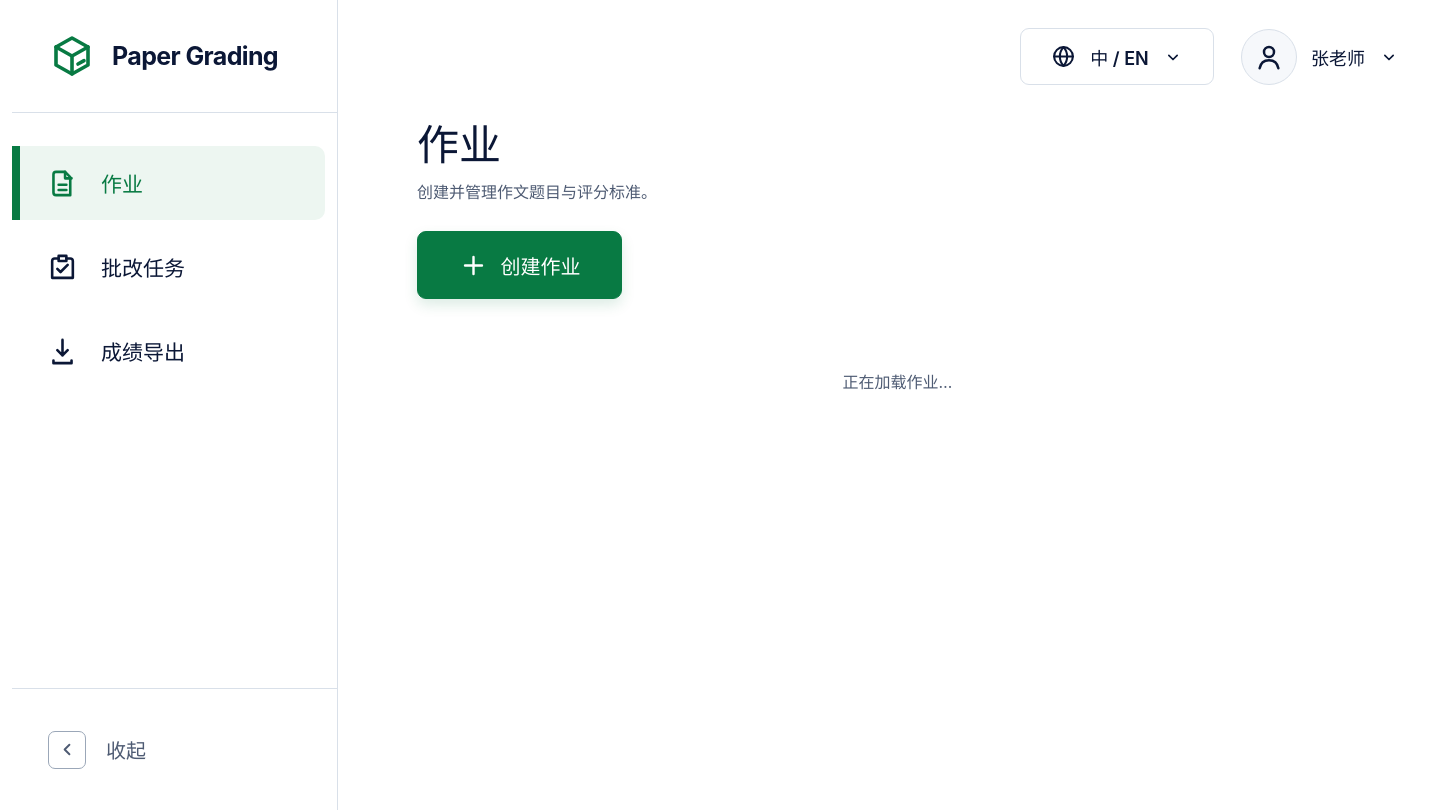
App › 可以切换英文界面
Click the button with aria-label "Switch to English". click: (1117, 56)
box: [1020,28,1214,85]
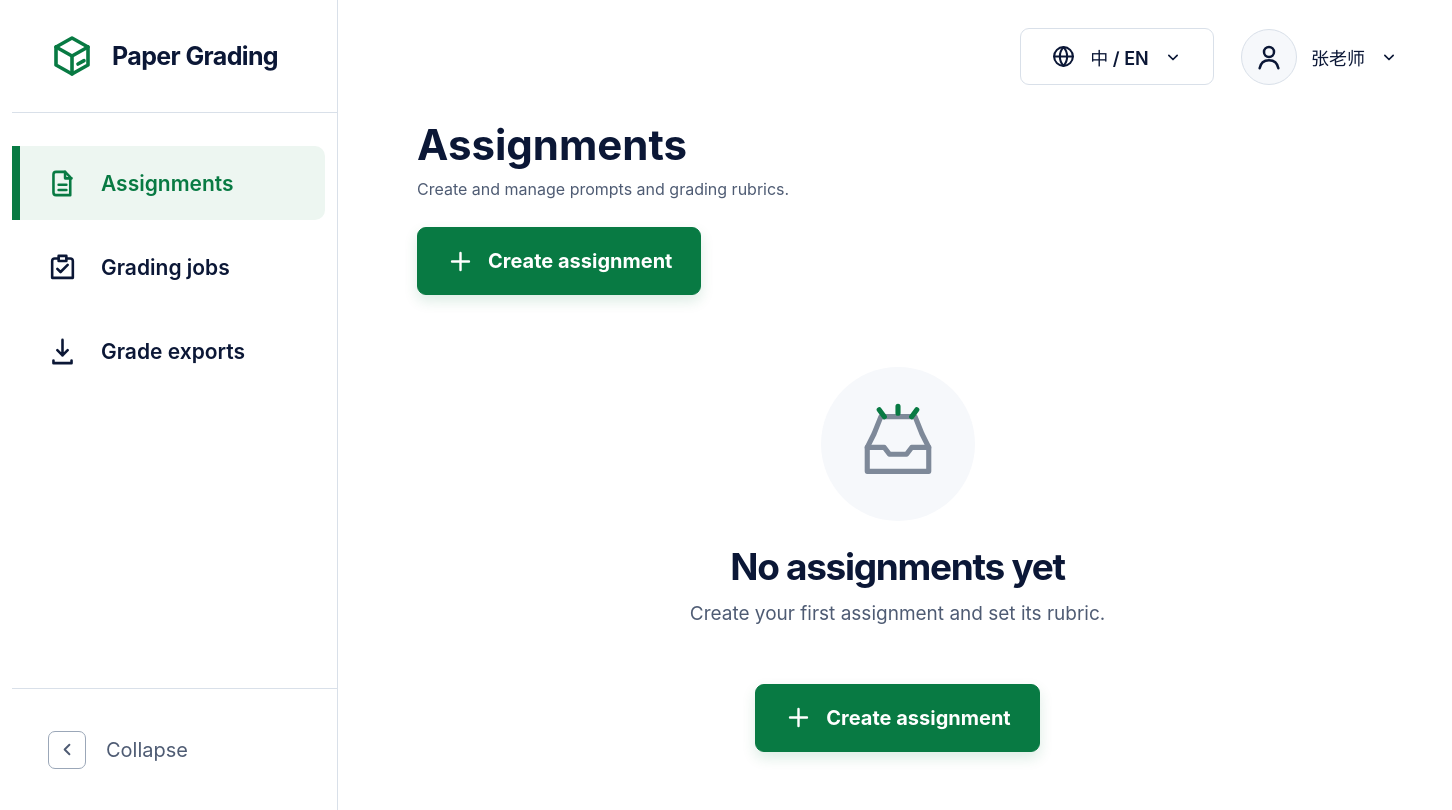
Result: the element named "Main navigation" is shown at [12,0,338,809]
Result: the heading "Assignments" is shown at [417,119,687,170]
